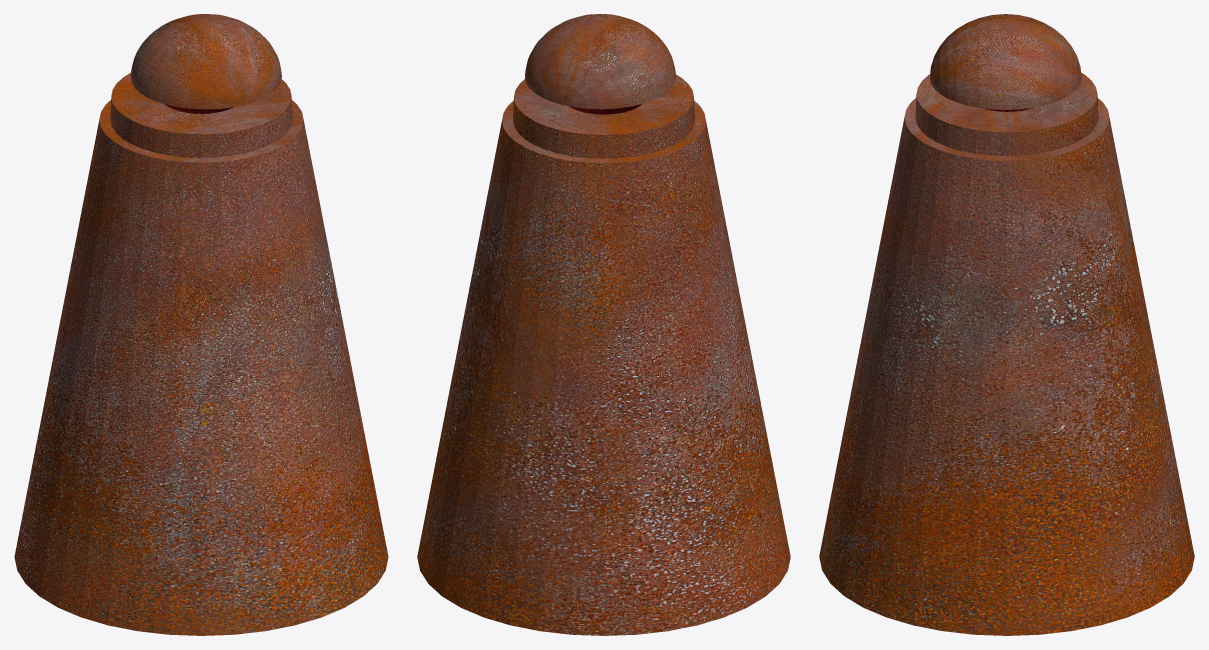
File: tower.glb
3 renders of one model, left to right at view 1: azimuth 30°, elevation 25°; view 2: azimuth 150°, elevation 25°; view 3: azimuth 270°, elevation 25°, orthographic.
Size of the model in its own units: 9.21 by 14.51 by 9.21.
2 materials, 2 textured.
